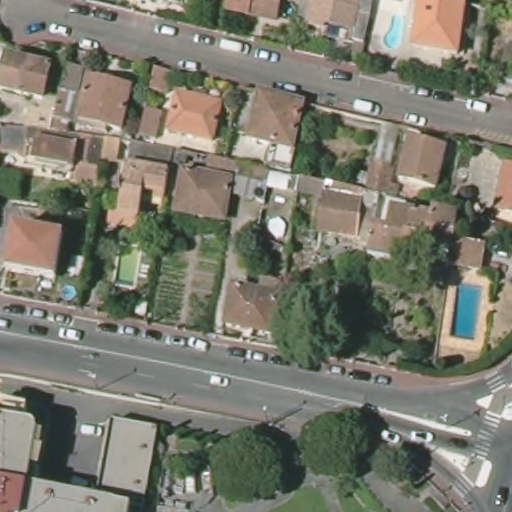pool: (451, 281, 484, 344), (382, 11, 408, 53), (60, 283, 80, 302)
